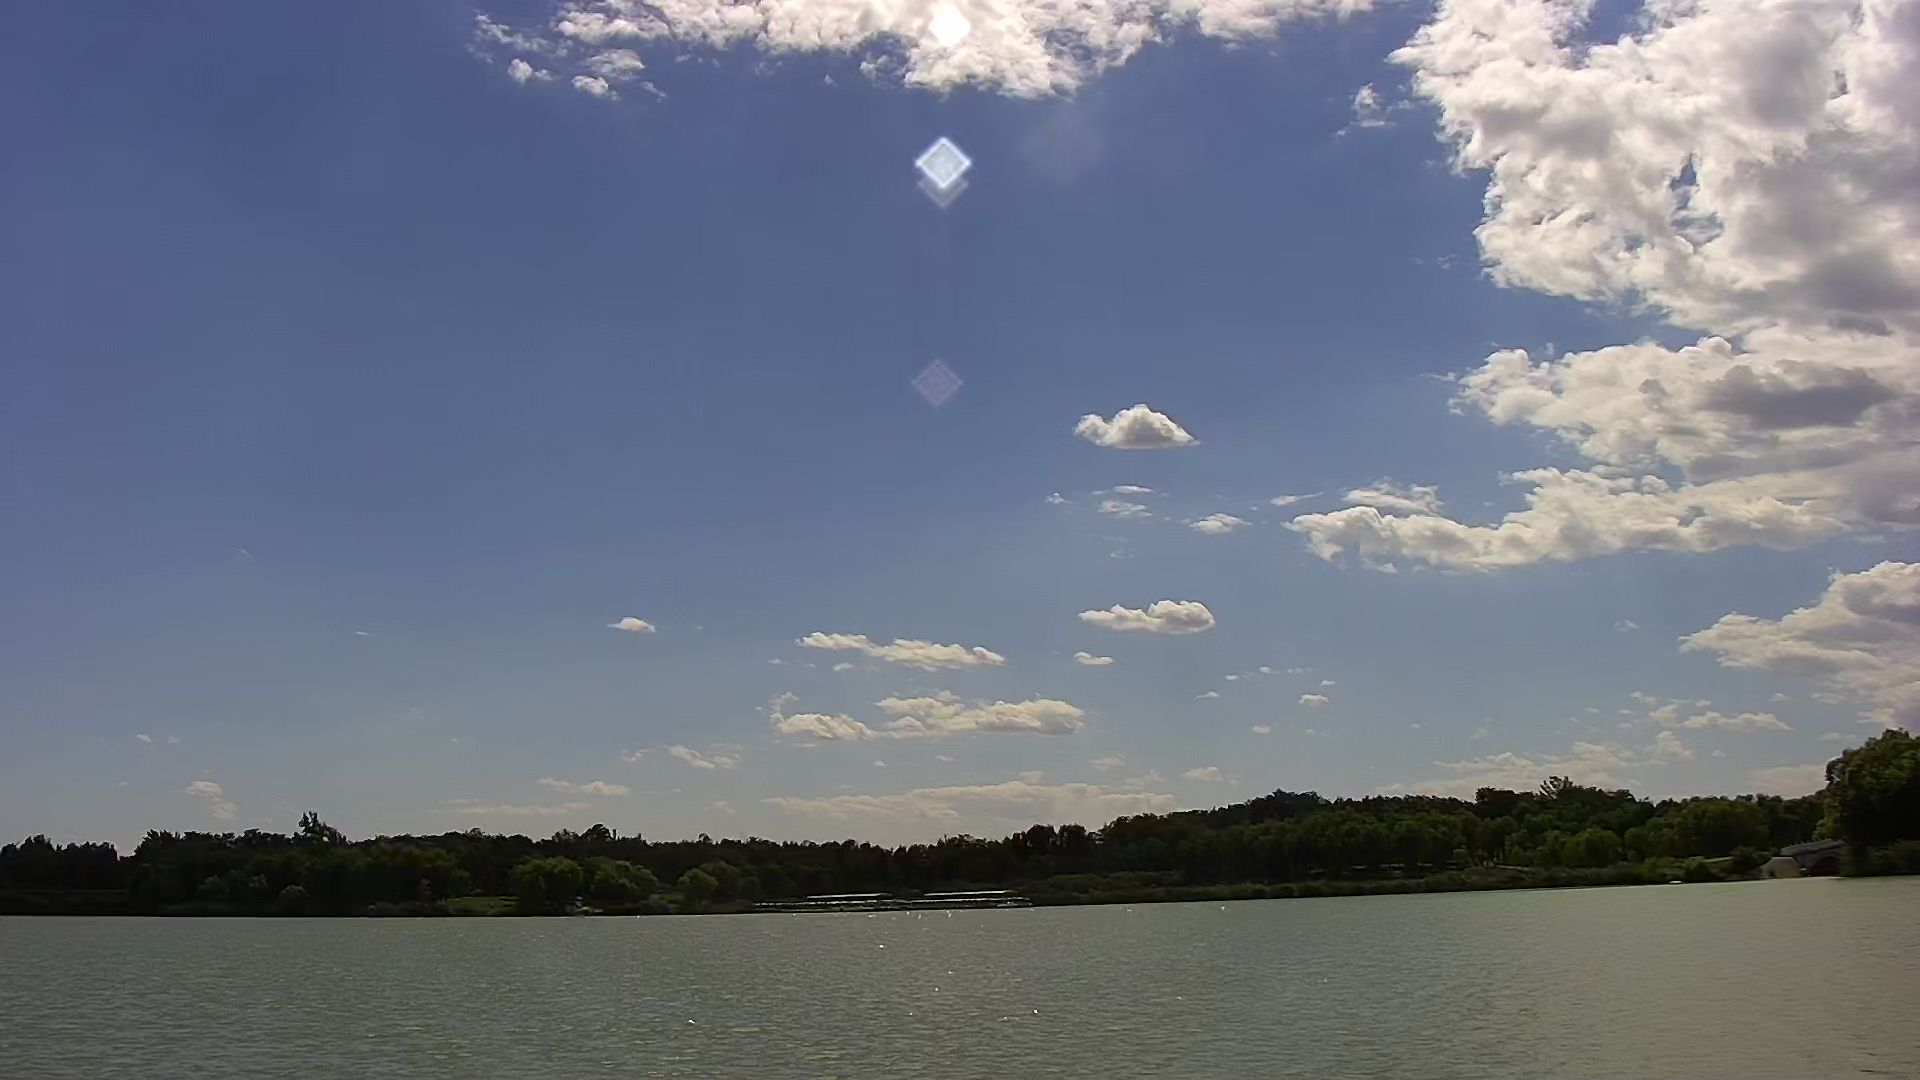harbor: (793, 891, 1011, 905)
